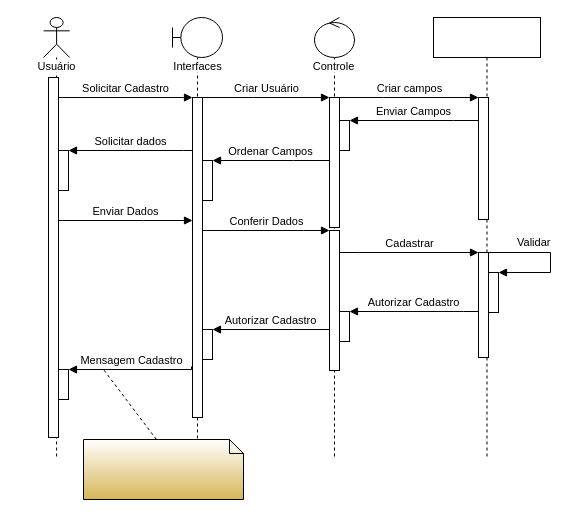
Image size: 577x517. Some labels were removed from this diagram. Each missing label, with the centre of its shape:
Cadastro Empresa: [486,237]
Informa que o cadastro foi realizado, e esta pendente de aprovação.: [163,469]
